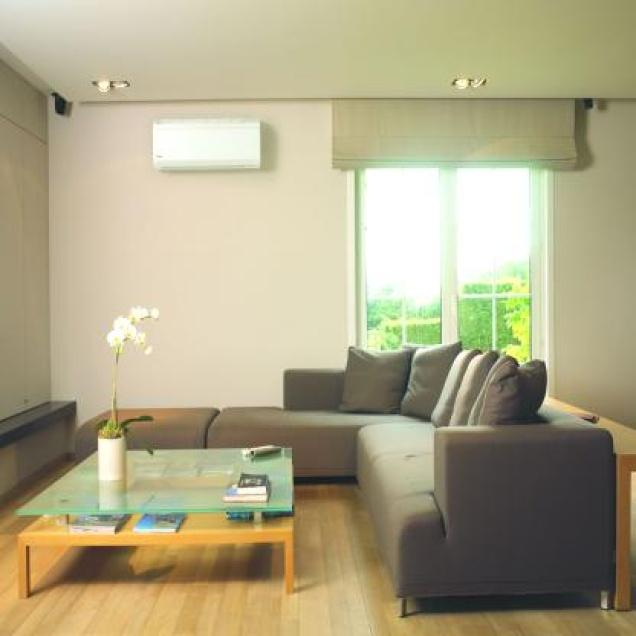Meja: (17, 444, 295, 599)
